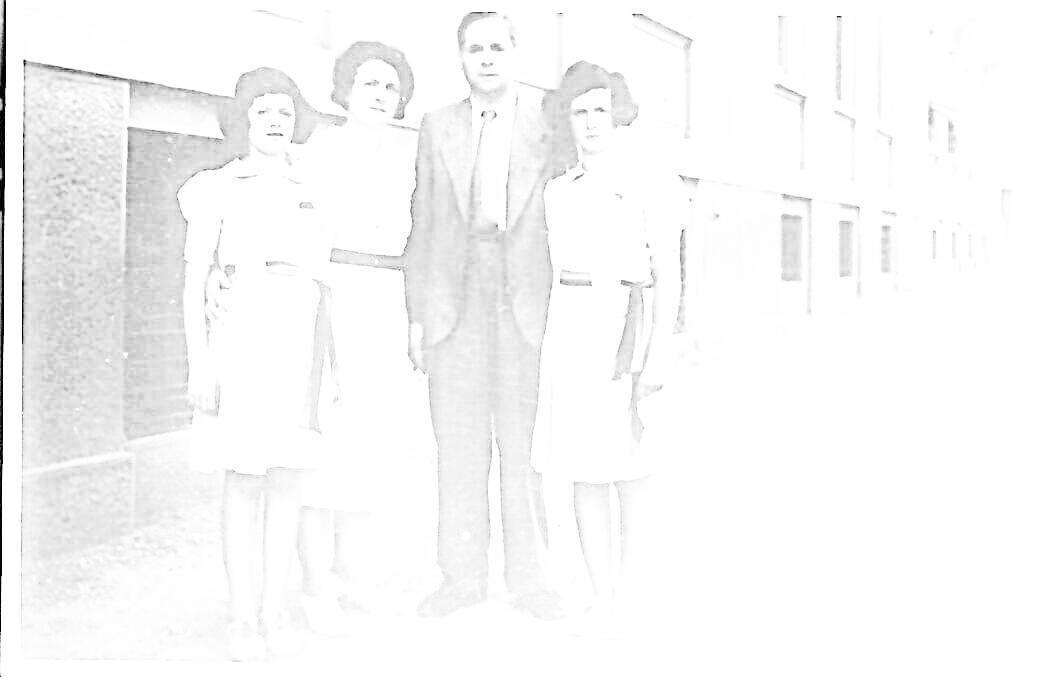face: (542, 60, 639, 162), (217, 68, 318, 157), (328, 40, 413, 123), (456, 12, 521, 97)
